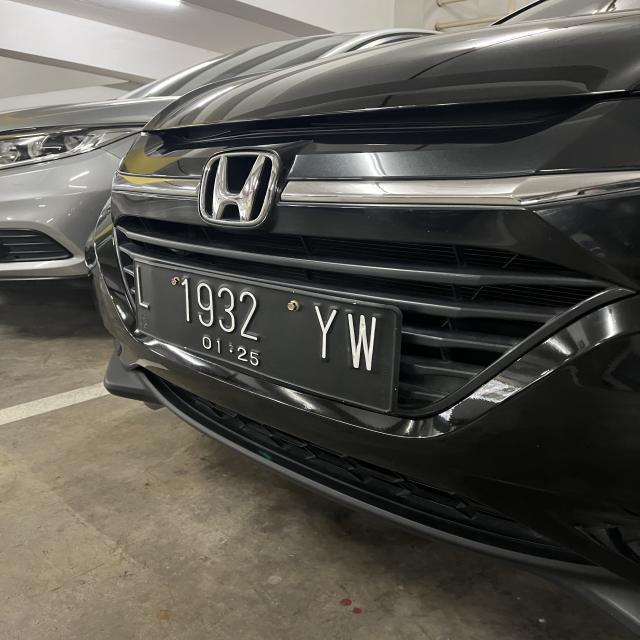1: (181, 276, 191, 327)
2: (240, 292, 260, 341)
3: (218, 285, 238, 333)
9: (194, 280, 214, 330)
L: (133, 264, 151, 316)
W: (347, 308, 379, 376)
Y: (313, 303, 337, 362)
